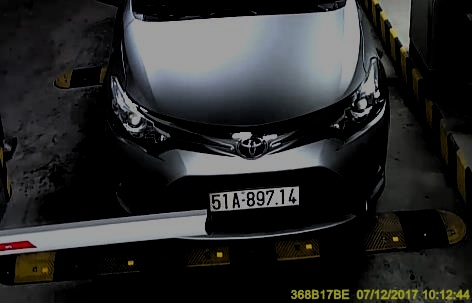plate: (206, 186, 302, 212)
